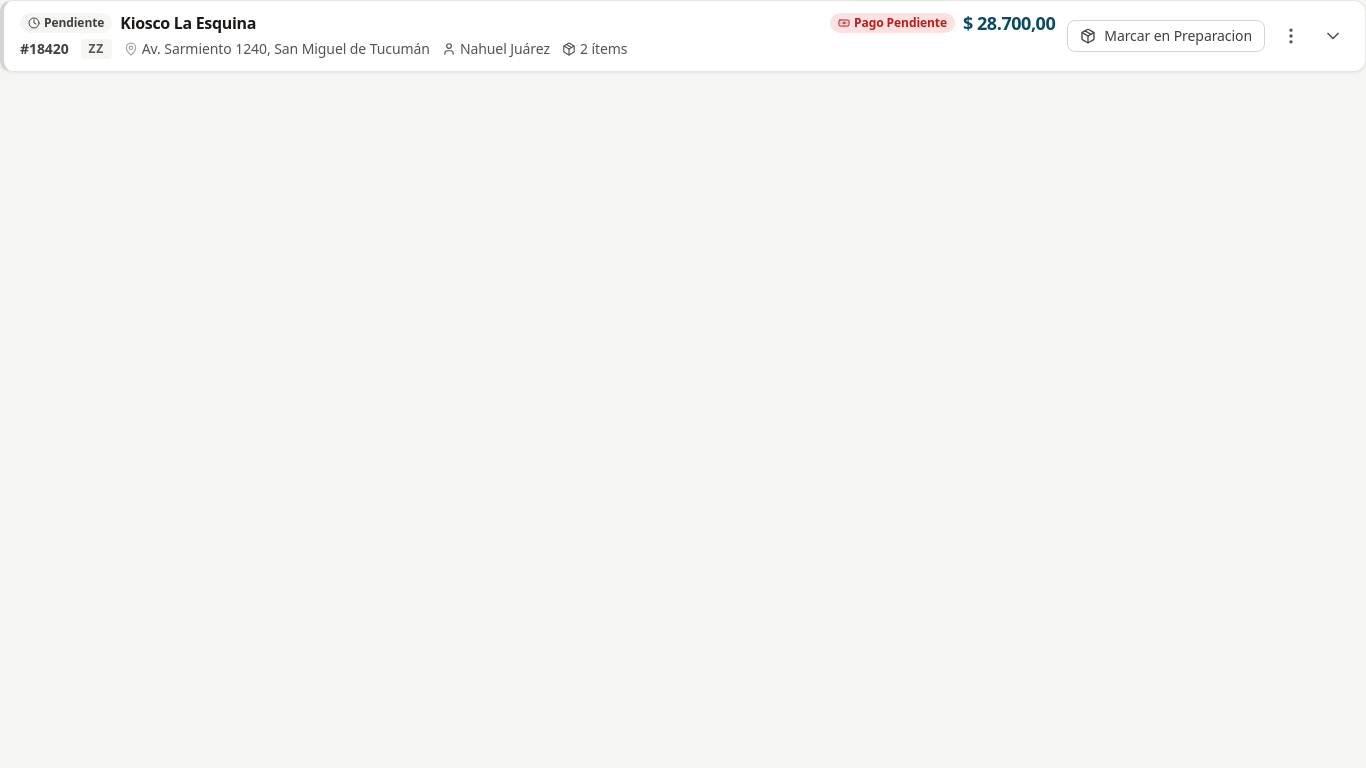
Test: PedidoCard cerrada — los datos que se ven, iguales para los 5 roles › admin ve cliente, direccion, #id, total y personas en la tarjeta, y fecha, hora, pago y productos en el detalle de #18420
expect the heading "Kiosco La Esquina" is shown: met, box [120,12,256,34]
expect the text "Av. Sarmiento 1240, San Miguel de Tucumán" is shown: met, box [142,39,430,59]
Step 1. Click the button named "Ver detalle del pedido" → (1333, 36), box [1317,20,1349,52]
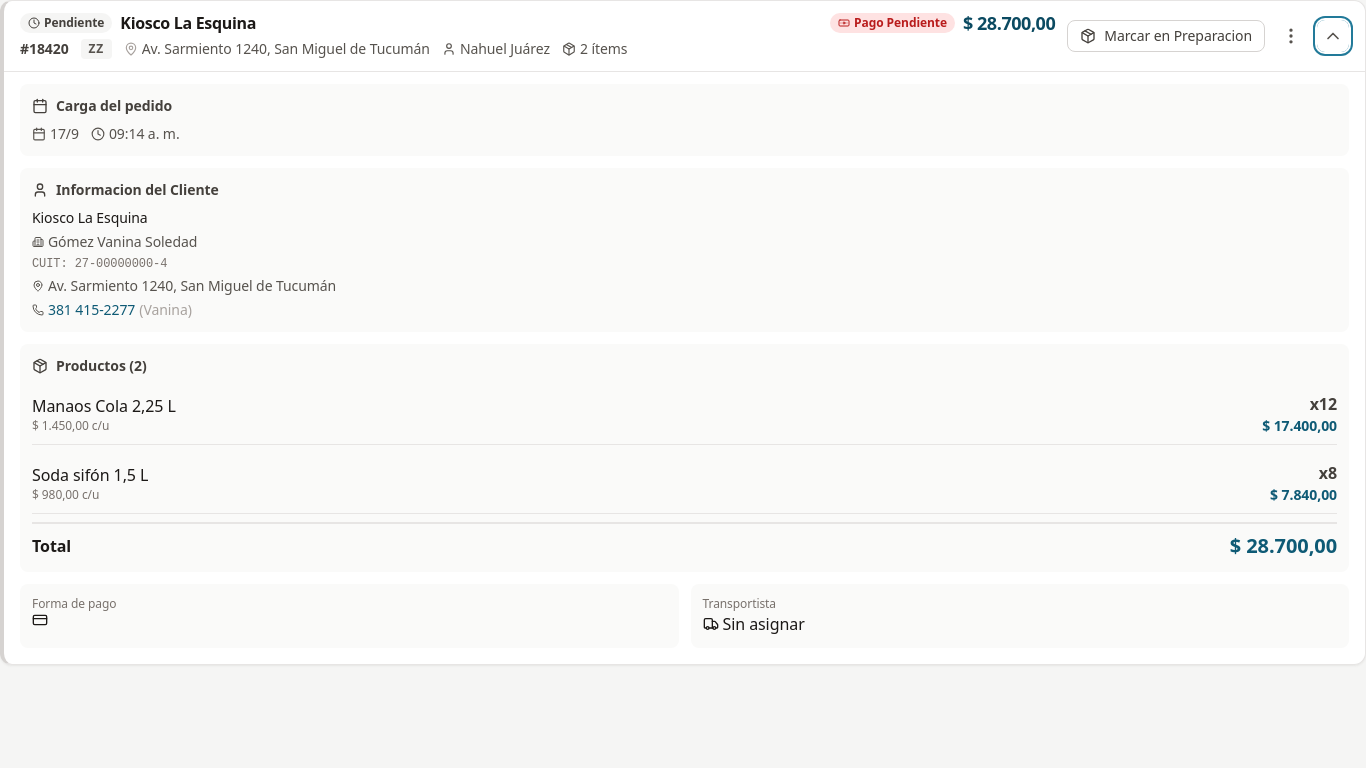
expect the text "17/9" is shown: met, box [32,124,79,144]
expect the text "Manaos Cola 2,25 L" is shown: met, box [32,395,176,417]
expect the text "x12" is shown: met, box [1310,393,1337,415]
